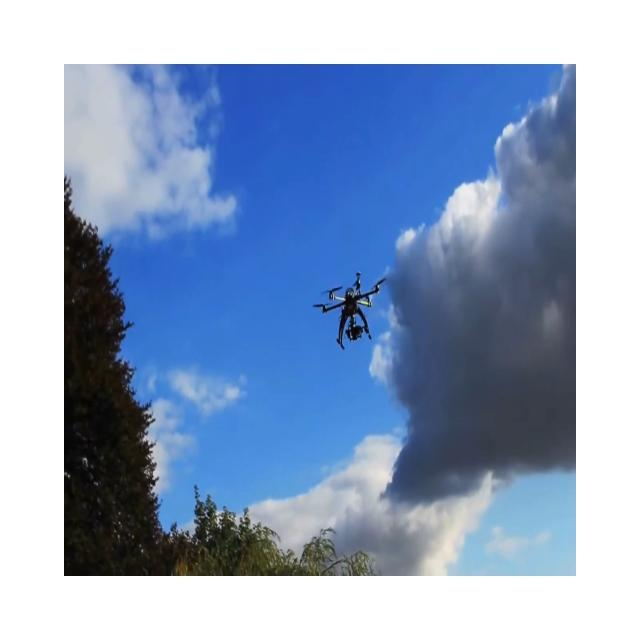drone: (313, 270, 387, 350)
